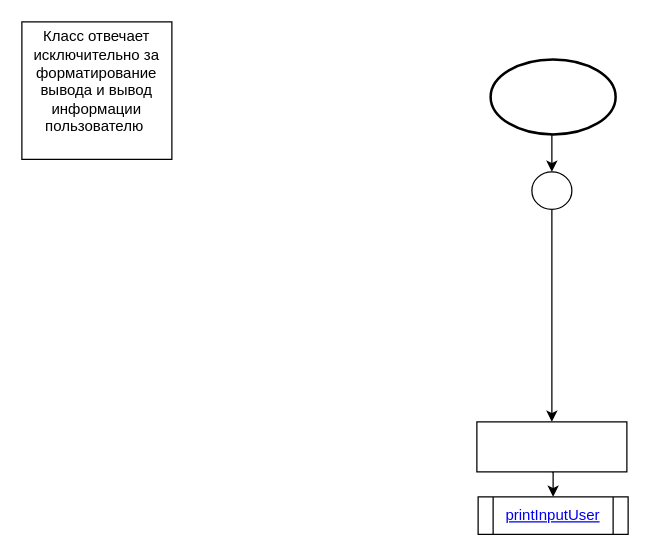
The diagram is 650 pixels wide and 556 high, and some of its shapes have lost their labels. Here are the shapes that lost their labels. From the top down, the centre of each, then its label:
the point at 552,96: Start
the point at 551,446: Простой вывод в консоль
